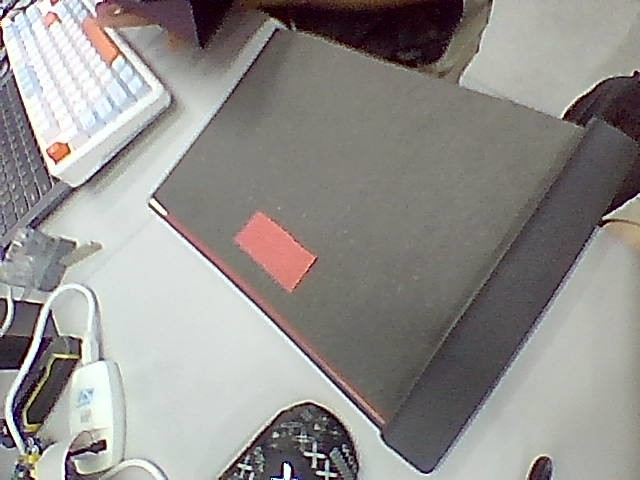card: (235, 211, 316, 292)
